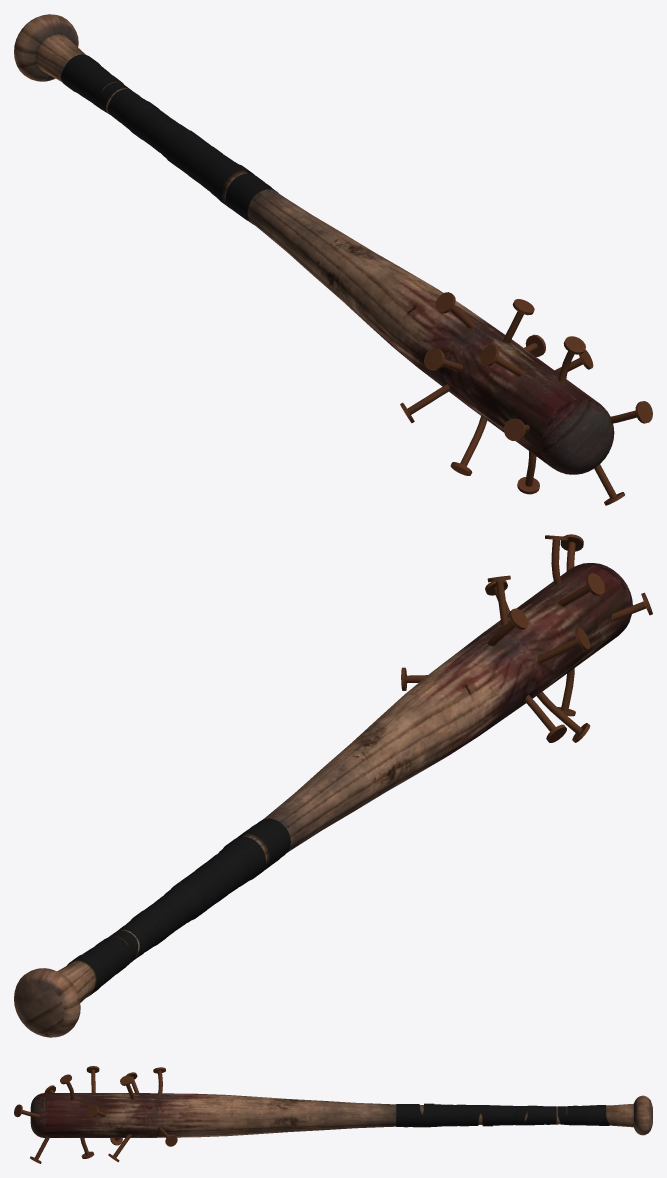
Rendered from bat4_nails.glb.
3 renders of one model, top to bottom at view 1: azimuth 30°, elevation 25°; view 2: azimuth 150°, elevation 25°; view 3: azimuth 270°, elevation 25°, orthographic. The views are drawn at different scales.
Visible parts, largest first — view 1: body; view 2: body; view 3: body.
Boxes of the visible parts, <box> form: body: <box>14,14,652,505</box>; body: <box>14,534,652,1037</box>; body: <box>14,1066,652,1163</box>.
Bounding box in the file's own units: 0.1318 × 0.1325 × 0.86.
2 materials, 2 textured.
